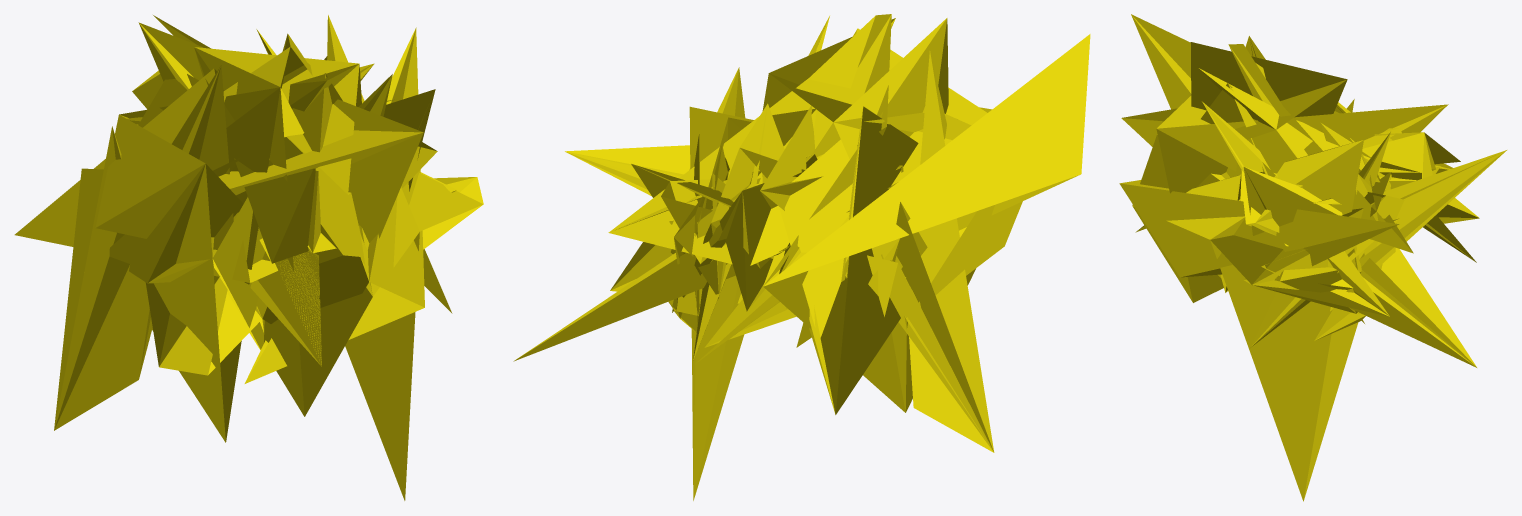
File: super saiyan hair.fbx
The picture shows the model from 3 angles, left to right: view 1: azimuth 30°, elevation 25°; view 2: azimuth 150°, elevation 25°; view 3: azimuth 270°, elevation 25°; orthographic projection. The views are drawn at different scales.
Parts seen in each view (by area): view 1: Icosphere; view 2: Icosphere; view 3: Icosphere.
Boxes of the visible parts, bbox=[...] form: Icosphere: bbox=[14, 15, 483, 500]; Icosphere: bbox=[513, 14, 1090, 500]; Icosphere: bbox=[1119, 14, 1506, 501].
Size of the model in its own units: 258 by 298 by 262.
